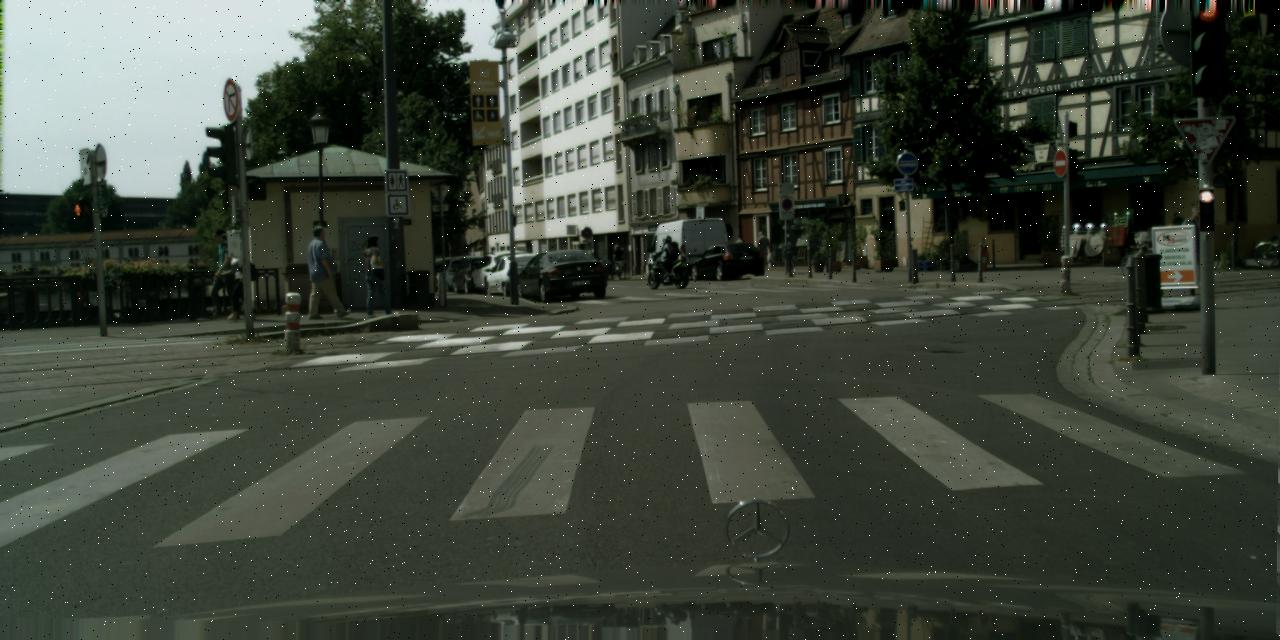ped: (305, 226, 343, 316), (204, 228, 240, 316), (221, 238, 254, 318), (1181, 204, 1213, 285), (362, 235, 394, 314), (659, 234, 676, 276), (754, 230, 770, 270), (734, 234, 748, 271), (612, 246, 624, 275)
